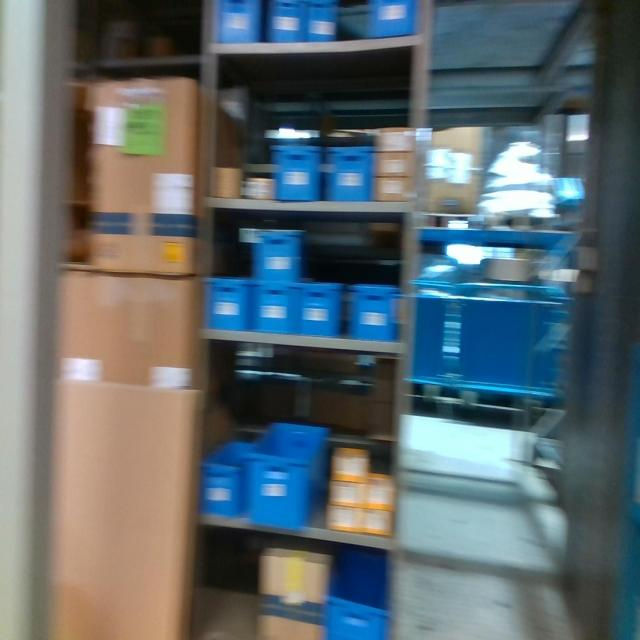small_load_carrier: (244, 404, 324, 526), (321, 547, 392, 637), (343, 276, 404, 359), (250, 220, 309, 288), (201, 435, 249, 511), (245, 272, 298, 338), (293, 276, 345, 342), (270, 137, 320, 201), (202, 273, 251, 337), (324, 146, 373, 202), (217, 2, 270, 46), (368, 1, 425, 41), (267, 0, 309, 52), (309, 2, 336, 46)
